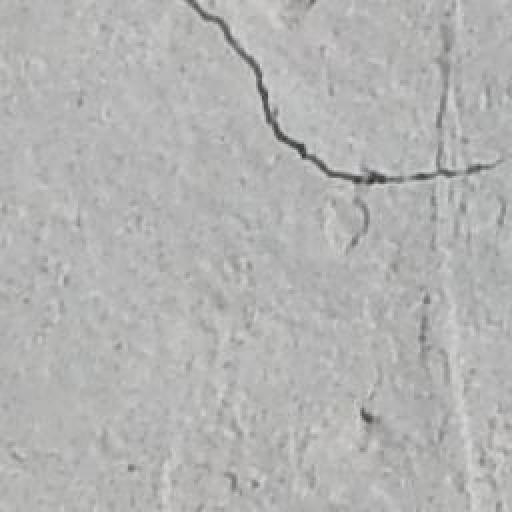spalling: (183, 4, 503, 207)
